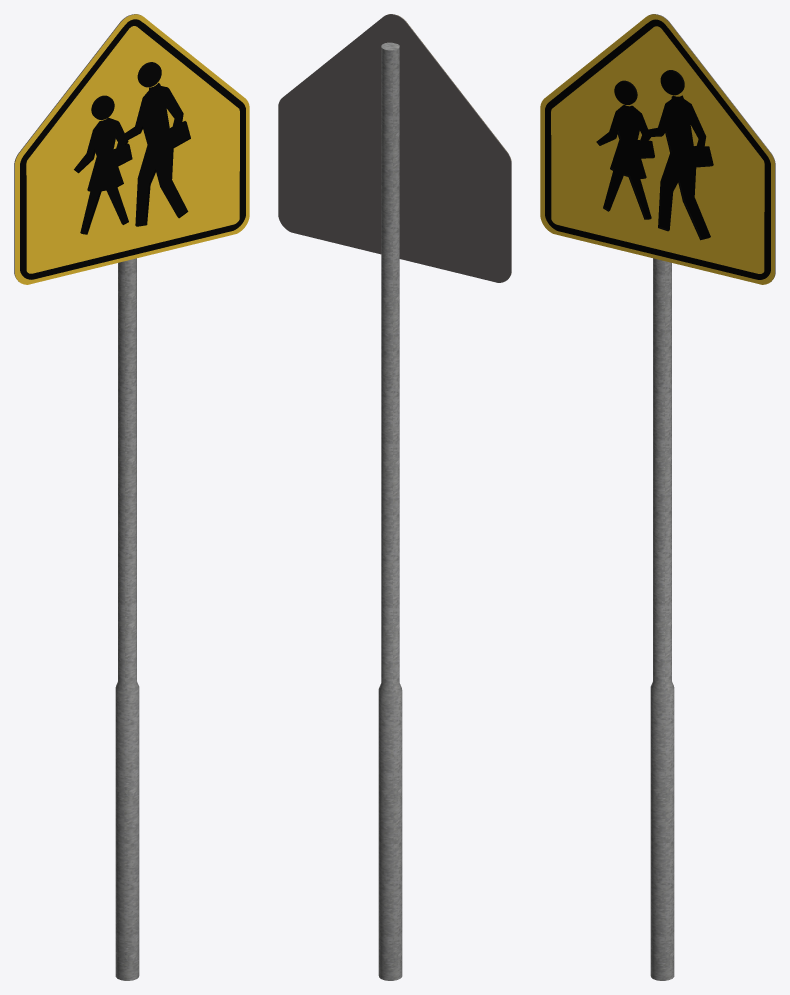
Rendered from Driving_Sim_Model_SchoolZone.fbx.
The picture shows the model from 3 angles, left to right: view 1: azimuth 30°, elevation 25°; view 2: azimuth 150°, elevation 25°; view 3: azimuth 330°, elevation 25°; orthographic projection.
Parts seen in each view (by area): view 1: Plane.004, mast-035, Plane.006, Plane.005, Plane.002; view 2: Plane.007, mast-035; view 3: Plane.004, mast-035, Plane.006, Plane.005, Plane.002.
Part boxes in pixels (box(x1,y1,x2,y2)): Plane.004: box(26, 26, 239, 273); mast-035: box(115, 258, 139, 980); Plane.006: box(74, 83, 190, 234); Plane.005: box(20, 19, 245, 279); Plane.002: box(15, 14, 249, 284); Plane.007: box(278, 14, 511, 282); mast-035: box(378, 42, 402, 980); Plane.004: box(551, 26, 764, 273); mast-035: box(650, 258, 674, 980); Plane.006: box(596, 95, 713, 240); Plane.005: box(545, 19, 770, 279); Plane.002: box(540, 14, 774, 284).
Size of the model in its own units: 0.6808 by 2.67 by 0.0651.
